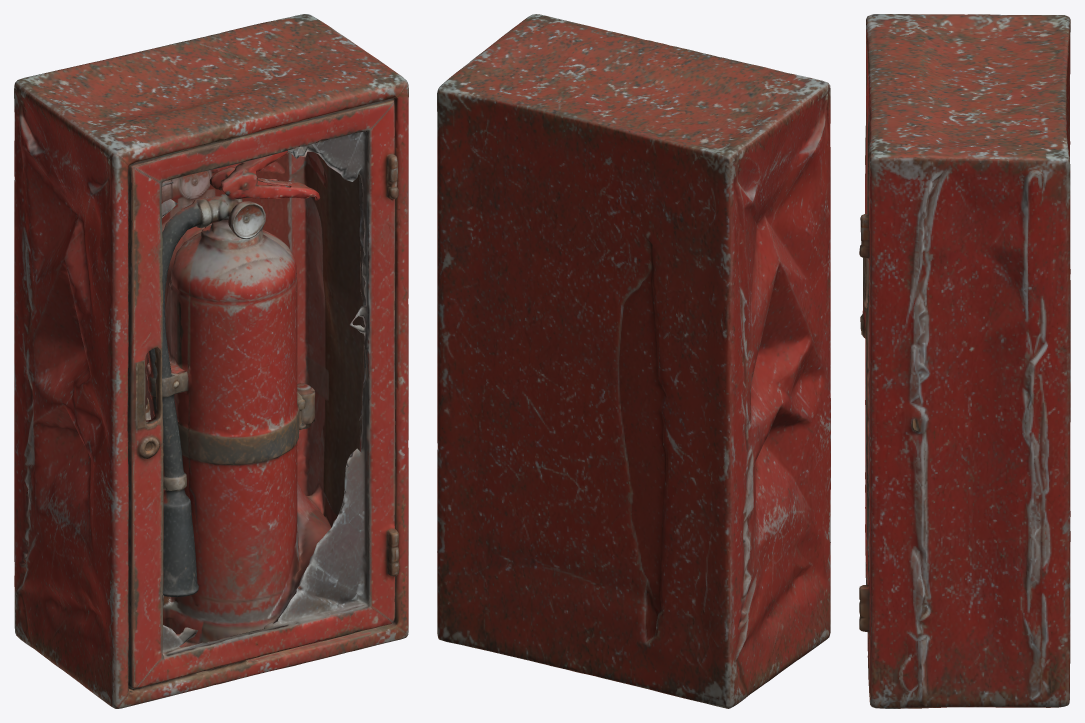
File: FireExtinguisher.fbx
3 renders of one model, left to right at view 1: azimuth 30°, elevation 25°; view 2: azimuth 150°, elevation 25°; view 3: azimuth 270°, elevation 25°, orthographic.
Parts seen in each view (by area): view 1: texture_mapping; view 2: texture_mapping; view 3: texture_mapping.
Boxes of the visible parts, box(x1,y1,x2,y2) form: texture_mapping: box(14, 14, 408, 708); texture_mapping: box(437, 14, 830, 708); texture_mapping: box(859, 14, 1070, 708).
Size of the model in its own units: 0.5713 by 0.3446 by 0.9982.
1 material, 1 textured.
